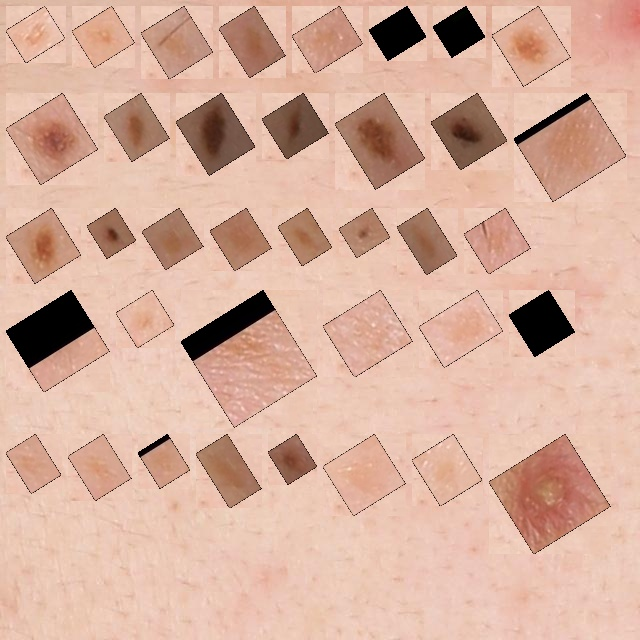melasma: (192, 301, 306, 416), (525, 104, 615, 190), (17, 301, 98, 381), (334, 301, 401, 366), (334, 445, 394, 504), (430, 301, 492, 356), (152, 17, 202, 68), (423, 445, 471, 495), (207, 445, 250, 497), (303, 17, 352, 62), (230, 17, 274, 66), (475, 219, 519, 263), (520, 301, 564, 345), (79, 445, 120, 489), (408, 219, 446, 264), (83, 17, 124, 56), (221, 219, 260, 260), (153, 219, 192, 258), (127, 301, 163, 337), (17, 17, 54, 52), (17, 445, 50, 482), (289, 219, 321, 255), (380, 17, 415, 49), (149, 445, 179, 477), (444, 17, 474, 46)
nevus: (346, 104, 414, 178), (17, 104, 87, 173), (187, 104, 244, 164), (503, 17, 559, 75), (442, 104, 496, 159), (17, 219, 70, 272), (115, 104, 158, 150), (273, 104, 317, 148), (350, 219, 379, 246), (98, 219, 125, 247), (279, 445, 306, 473)
pustule: (500, 445, 599, 543)
